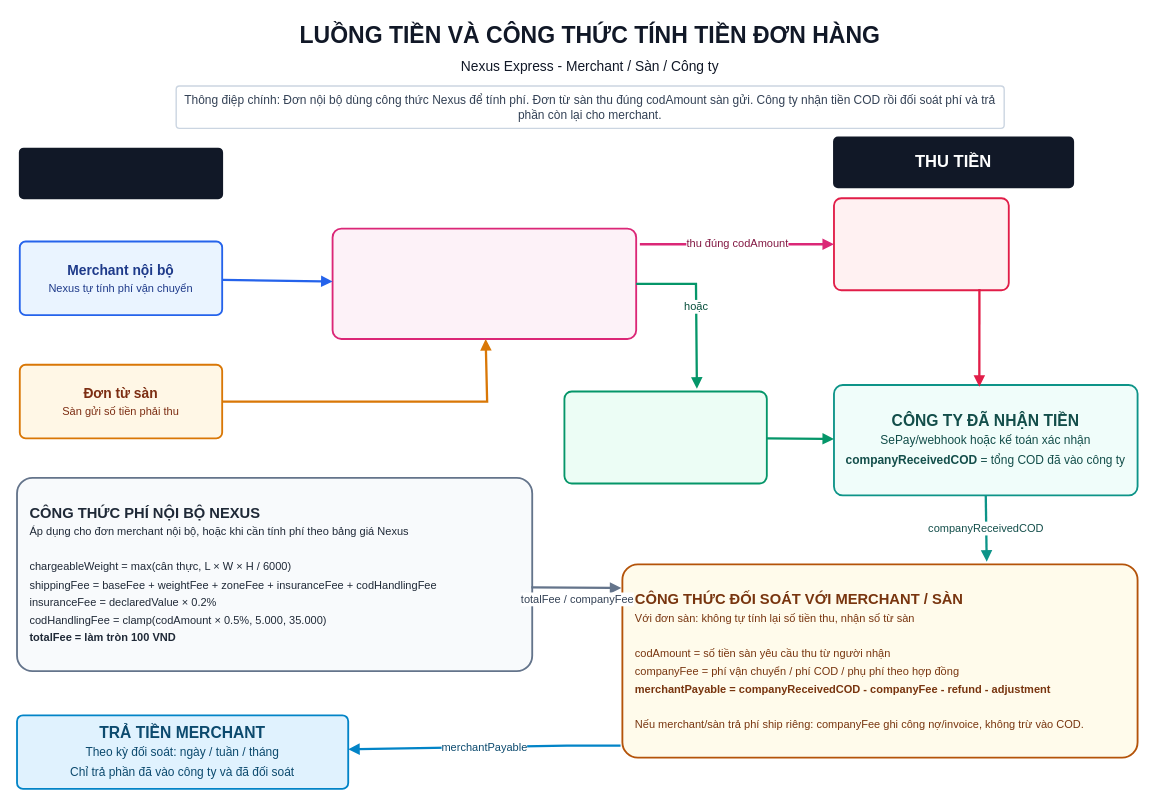
This 1154x805 diagram has some shape labels left out. The centre of each missing label's shape, as x and y in pixels:
"Chuyển khoản Người nhận → Tài khoản công ty Memo: COD <shipmentCode>" goes at (x=665, y=437).
"NGUỒN ĐƠN" goes at (x=120, y=173).
"SỐ TIỀN CẦN THU TỪ NGƯỜI NHẬN codAmount = tiền thực tế courier/Nexus phải thu" goes at (x=484, y=283).
"Tiền mặt Người nhận → Courier Courier nộp settlement về công ty" goes at (x=921, y=244).
